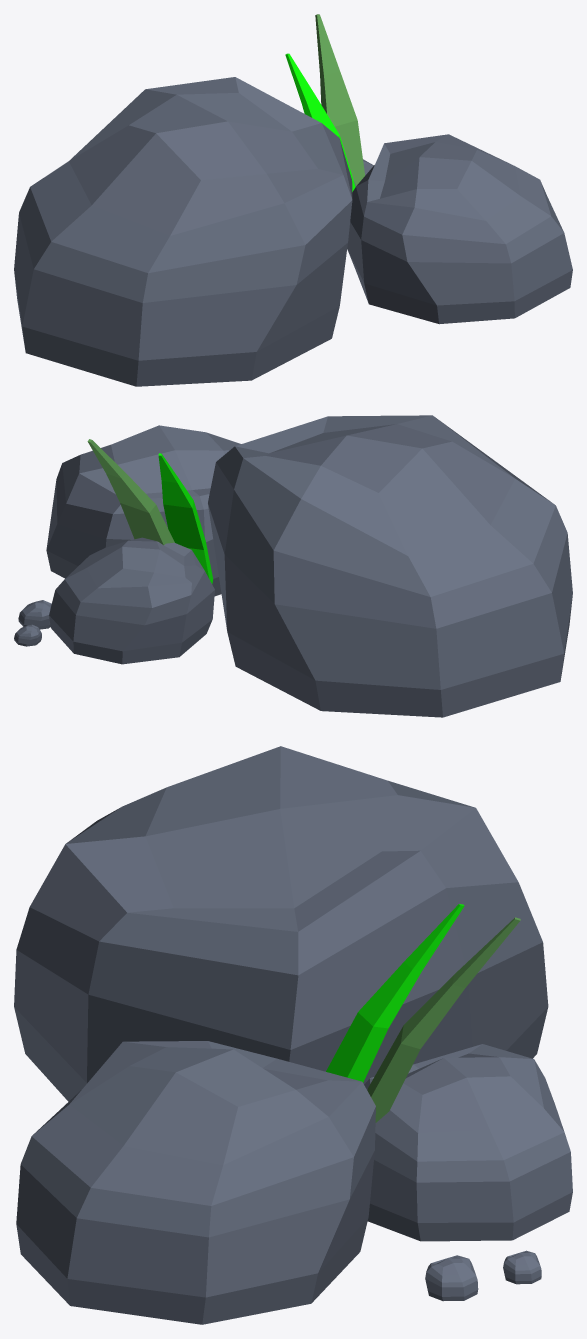
Rendered from Stones.fbx.
3 views of the same model, one above another, from view 1: azimuth 30°, elevation 25°; view 2: azimuth 150°, elevation 25°; view 3: azimuth 270°, elevation 25° (orthographic). The views are drawn at different scales.
Visible parts, largest first — view 1: Cube.020; view 2: Cube.020; view 3: Cube.020.
Part boxes in pixels (bbox=[...]): Cube.020: bbox=[14, 14, 572, 386]; Cube.020: bbox=[14, 415, 572, 717]; Cube.020: bbox=[14, 746, 572, 1324].
Bounding box in the file's own units: 222 × 86.16 × 136.
